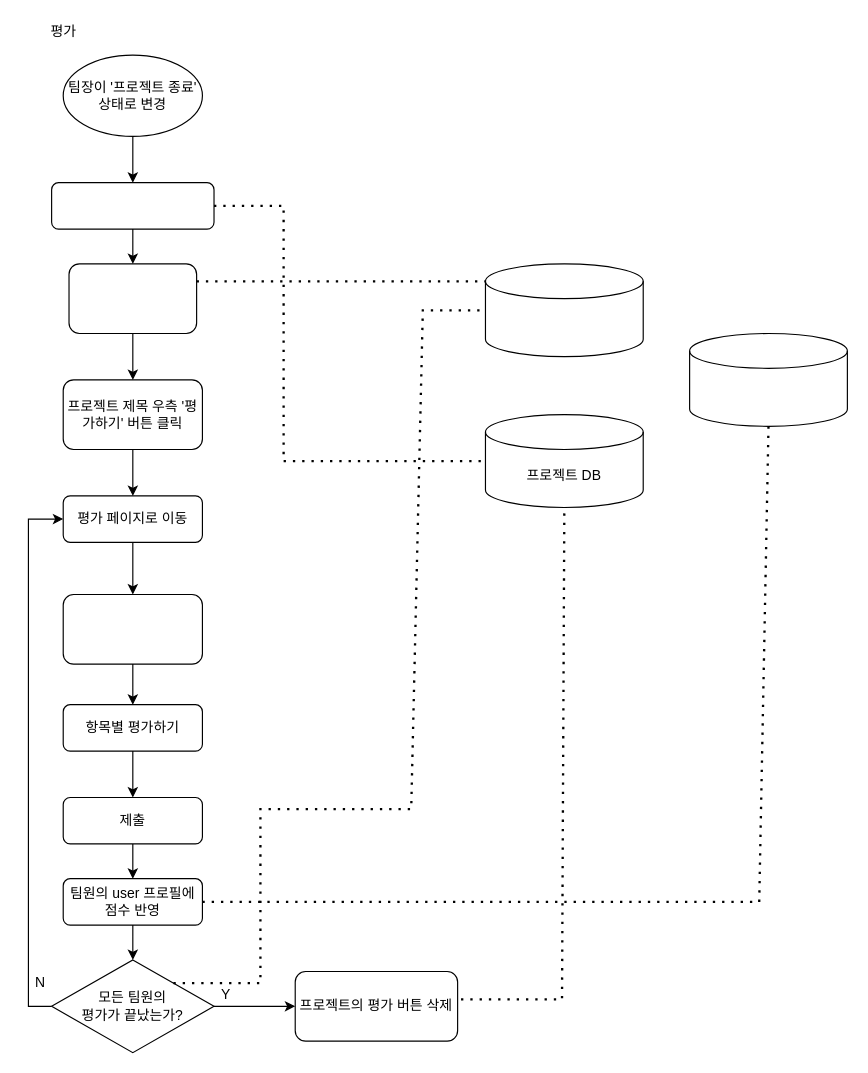
This 868x1073 diagram has some shape labels left out. The shapes that lost their labels are listed below. From the top down, each one's centre as x and y in pixels, then its label:
pixel 132 205: 프로젝트 종료 상태 변경
pixel 132 298: 마이페이지 - 내가 한 프로젝트 목록 이동
pixel 563 310: 참여 DB
pixel 767 379: 사용자 DB
pixel 132 628: 평가하려는 팀원 아이디 우측 '평가' 버튼 클릭
